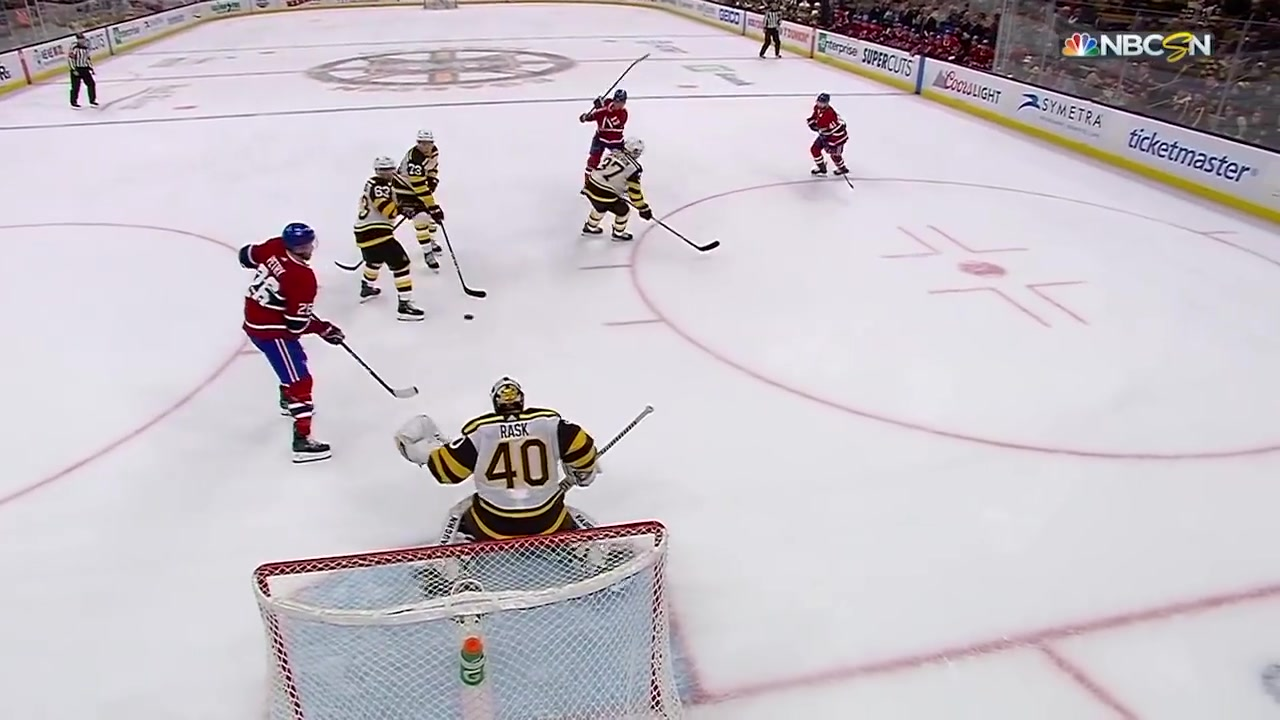Geico: (712, 3, 741, 30)
